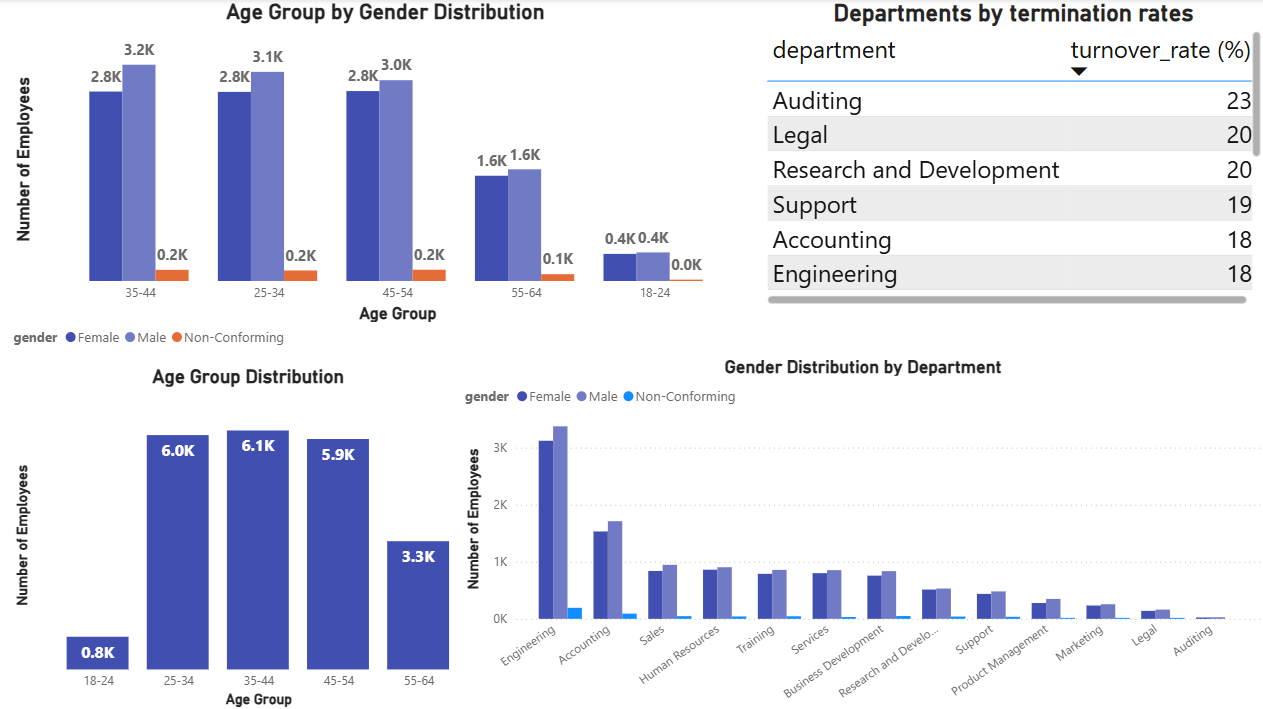

The dashboard page shown, as its layout file describes it:
{"tool":"powerbi","page":{"name":"Page 2","canvas":[1280,720],"ordinal":1},"visuals":[{"type":"clusteredColumnChart","title":"Age Group by Gender Distribution","fields":{"Category":["age_group_gender.age_group"],"Y":["Sum(age_group_gender.total_employees)"],"Series":["age_group_gender.gender"]},"box":[10,0,761,360],"z":0},{"type":"clusteredColumnChart","title":"Age Group Distribution","fields":{"Category":["age_group.age_group"],"Y":["Sum(age_group.total_employees)"]},"box":[10,370,484,350],"z":1000},{"type":"tableEx","title":"Departments by termination rates","fields":{"Values":["turnover_rate.department","turnover_rate.turnover_rate"]},"box":[771,0,509,313],"z":2000},{"type":"clusteredColumnChart","title":"Gender Distribution by Department","fields":{"Y":["Sum(gender_depts.total)"],"Category":["gender_depts.department"],"Series":["gender_depts.gender"]},"box":[466,361,814,359],"z":3000}]}

Visuals, with their boxes in screenshot pixels (x1, y1, x2, y2), scaled from the page's 1280x720 canvas onto the 1263x709 screenshot:
"Age Group by Gender Distribution" clusteredColumnChart: bbox(10, 0, 761, 354)
"Age Group Distribution" clusteredColumnChart: bbox(10, 364, 487, 708)
"Departments by termination rates" tableEx: bbox(761, 0, 1262, 308)
"Gender Distribution by Department" clusteredColumnChart: bbox(460, 355, 1262, 708)
